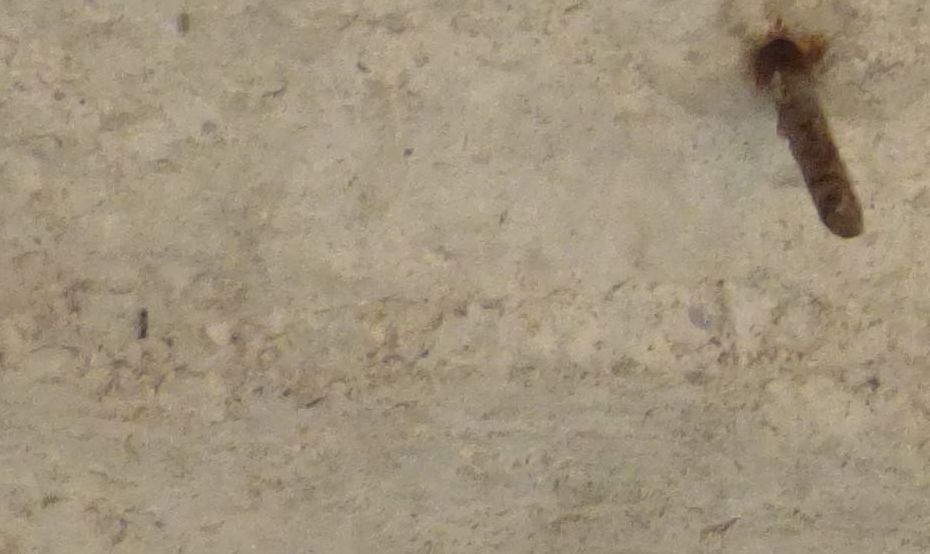Exposed reinforcement: (758, 46, 865, 239)
